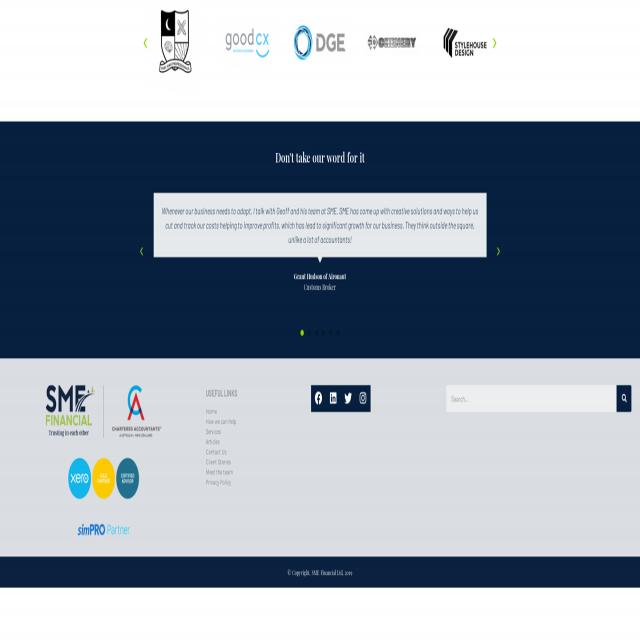button: (46, 386, 162, 438), (63, 449, 144, 508), (154, 3, 200, 84), (290, 16, 350, 67), (437, 20, 493, 66), (367, 26, 423, 60), (75, 519, 132, 540), (340, 386, 356, 412), (616, 386, 632, 412), (311, 386, 326, 412), (326, 386, 340, 412), (356, 386, 370, 412), (137, 238, 146, 264), (141, 32, 150, 56), (491, 32, 498, 53), (495, 242, 502, 260), (300, 329, 305, 337), (335, 329, 340, 337), (307, 328, 311, 336), (314, 329, 318, 337), (322, 329, 326, 336), (328, 329, 332, 336)
field: (446, 385, 616, 413)
